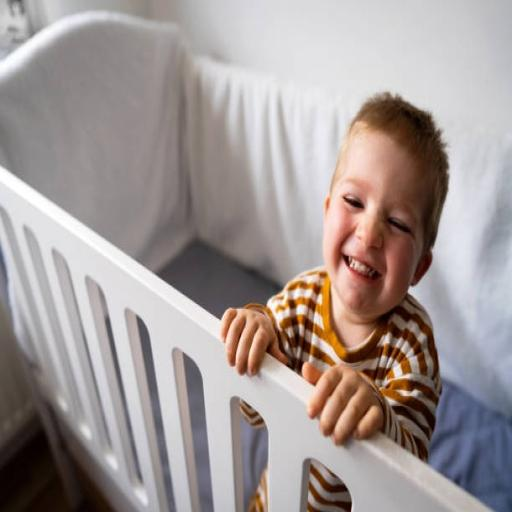baby: (221, 94, 448, 460)
crib: (0, 13, 485, 510)
